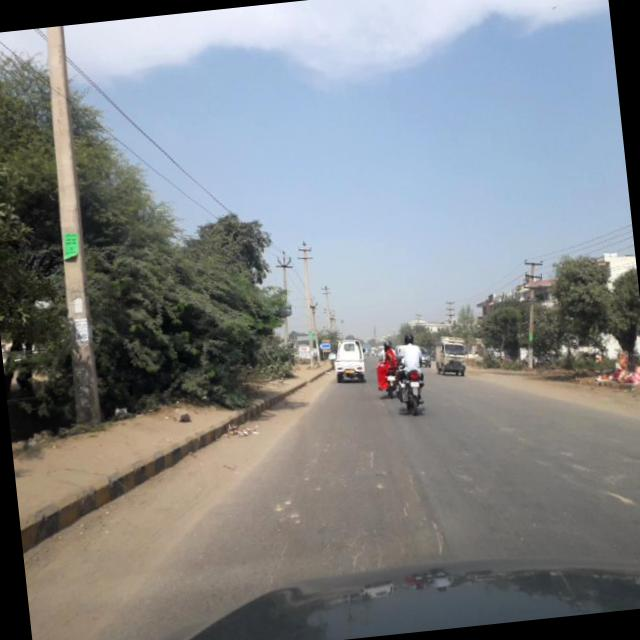pothole: (424, 512, 446, 556), (363, 444, 379, 469)
